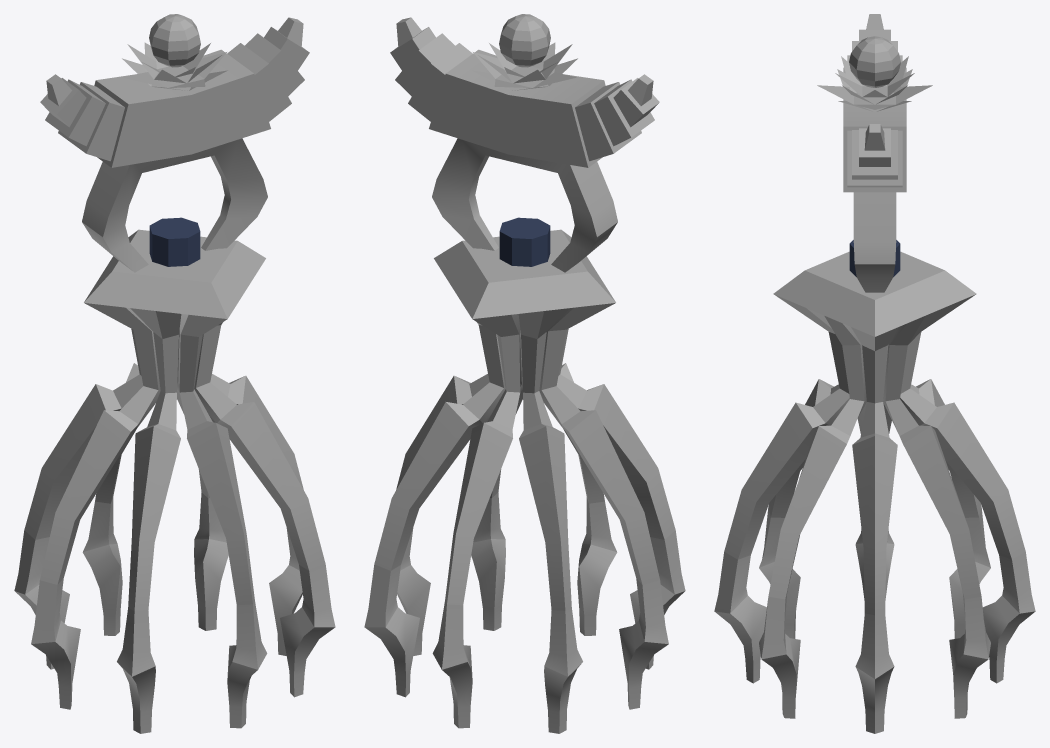
The model's file is StoneLamp.fbx.
The picture shows the model from 3 angles, left to right: view 1: azimuth 30°, elevation 25°; view 2: azimuth 150°, elevation 25°; view 3: azimuth 270°, elevation 25°; orthographic projection. The views are drawn at different scales.
Parts seen in each view (by area): view 1: StoneLamp_GEO; view 2: StoneLamp_GEO; view 3: StoneLamp_GEO.
Boxes of the visible parts, box(x1,y1,x2,y2) form: StoneLamp_GEO: box(14, 14, 335, 733); StoneLamp_GEO: box(364, 14, 685, 733); StoneLamp_GEO: box(714, 14, 1035, 733).
Size of the model in its own units: 66.11 by 146 by 66.11.
